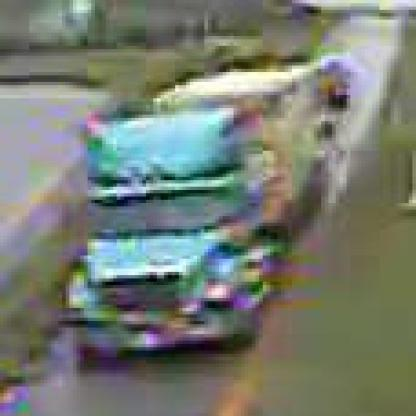container: (63, 70, 337, 365)
